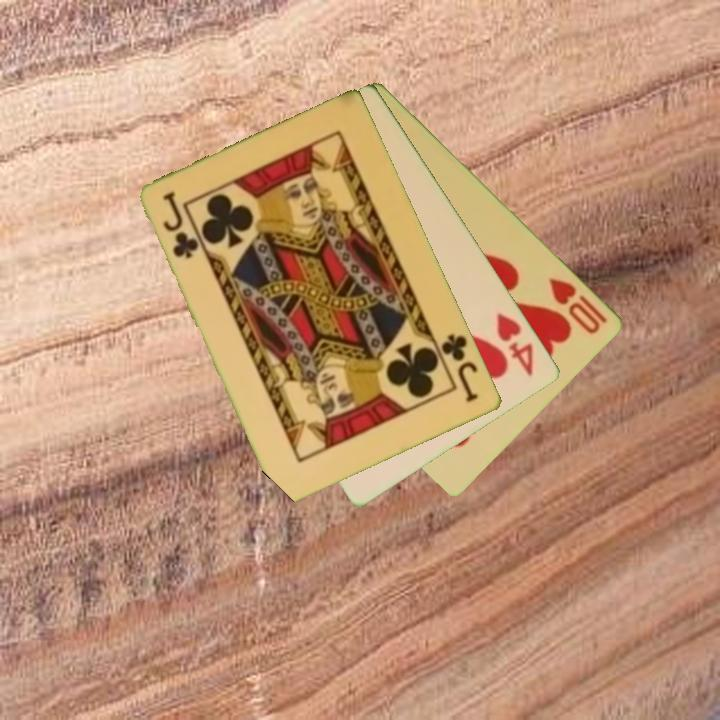10h: (545, 274, 611, 337)
4h: (493, 309, 537, 379)
Jc: (432, 330, 482, 406), (160, 188, 202, 262)
